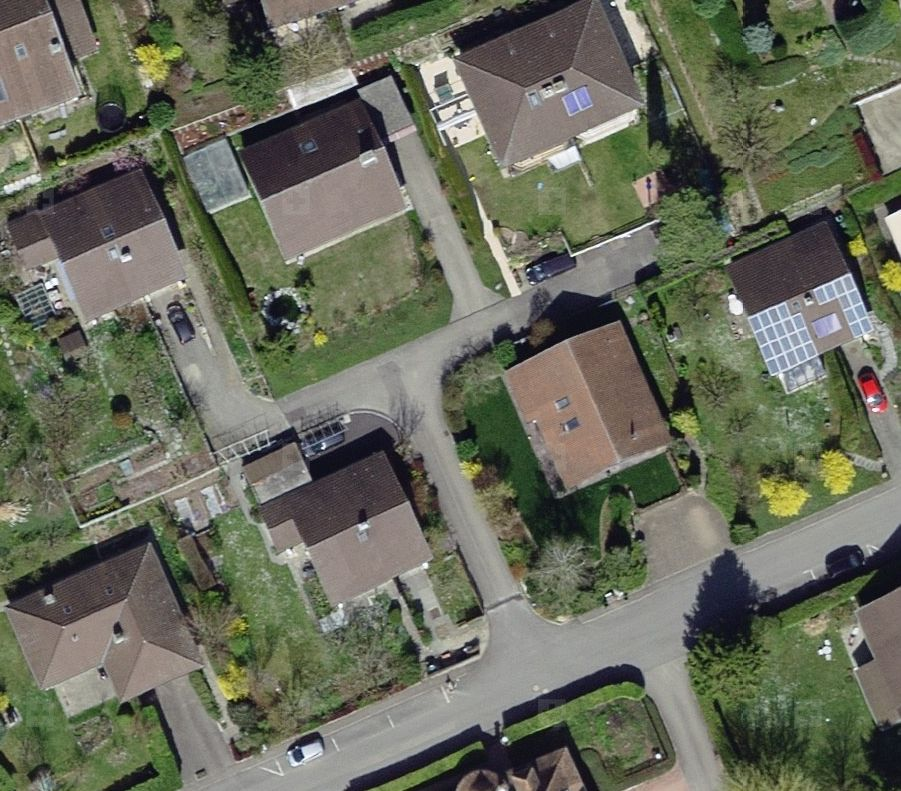solar: (745, 273, 877, 381), (554, 77, 600, 124)
